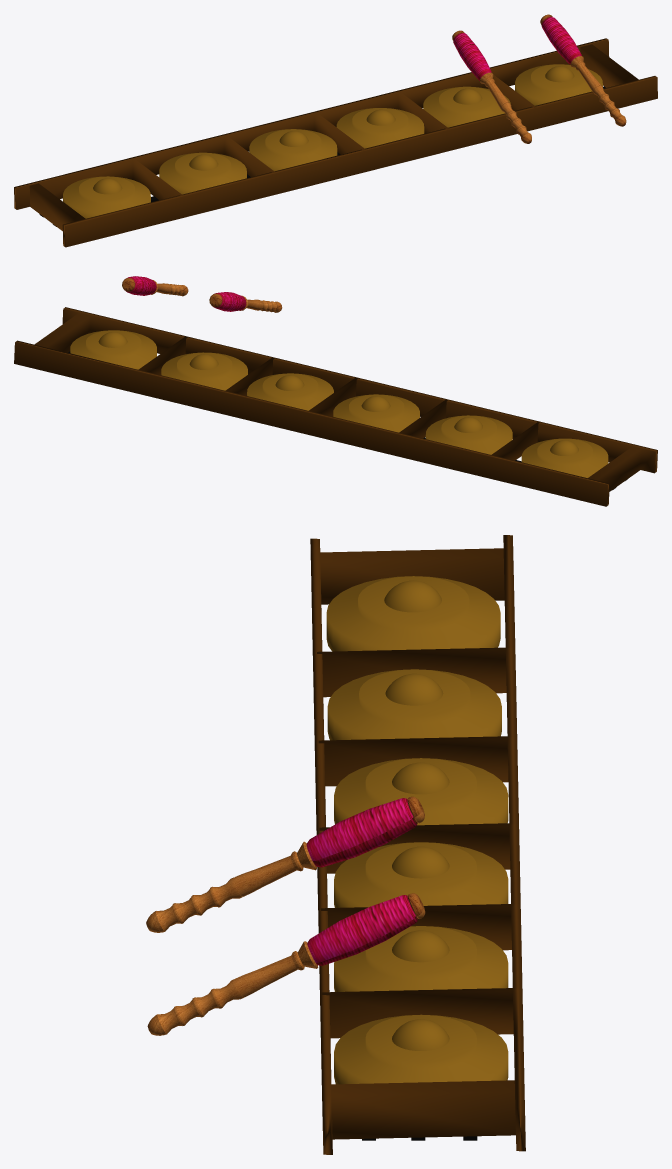
Rendered from kulintanganbaru.glb.
The picture shows the model from 3 angles, top to bottom: view 1: azimuth 30°, elevation 25°; view 2: azimuth 150°, elevation 25°; view 3: azimuth 270°, elevation 25°; orthographic projection. The views are drawn at different scales.
Visible parts, largest first — view 1: Cube.001, Cube, Pemukul.002, Cylinder.004, Cylinder.002, Cylinder.003, Cylinder.001, Cylinder.005, Cylinder; view 2: Cube, Cube.001, Cylinder.004, Cylinder.003, Cylinder.005, Cylinder, Cylinder.002, Cylinder.001, Pemukul.002; view 3: Cube, Cube.001, Pemukul.002, Cylinder.004, Cylinder.003, Cylinder.005, Cylinder.001, Cylinder, Cylinder.002.
Boxes of the visible parts, x1,y1,x2,y2 form: Cube.001: (29, 44, 657, 247); Cube: (14, 38, 609, 209); Pemukul.002: (452, 14, 626, 143); Cylinder.004: (63, 176, 150, 218); Cylinder.002: (249, 129, 337, 171); Cylinder.003: (159, 152, 246, 194); Cylinder.001: (336, 108, 424, 148); Cylinder.005: (515, 64, 602, 105); Cylinder: (423, 86, 510, 127); Cube: (14, 336, 609, 506); Cube.001: (34, 307, 657, 491); Cylinder.004: (521, 438, 608, 477); Cylinder.003: (425, 415, 512, 454); Cylinder.005: (70, 330, 156, 369); Cylinder: (161, 352, 247, 390); Cylinder.002: (333, 394, 419, 432); Cylinder.001: (247, 373, 333, 410); Pemukul.002: (122, 276, 282, 312); Cube: (317, 535, 525, 1151); Cube.001: (310, 538, 515, 1154); Pemukul.002: (146, 796, 425, 1035); Cylinder.004: (326, 576, 500, 651); Cylinder.003: (327, 669, 501, 740); Cylinder.005: (334, 1014, 508, 1084); Cylinder.001: (334, 842, 508, 907); Cylinder: (334, 926, 508, 991); Cylinder.002: (334, 758, 508, 825).
Bounding box in the file's own units: 2.07 × 0.3229 × 0.5762.
Materials: 5 (2 with a texture image).
